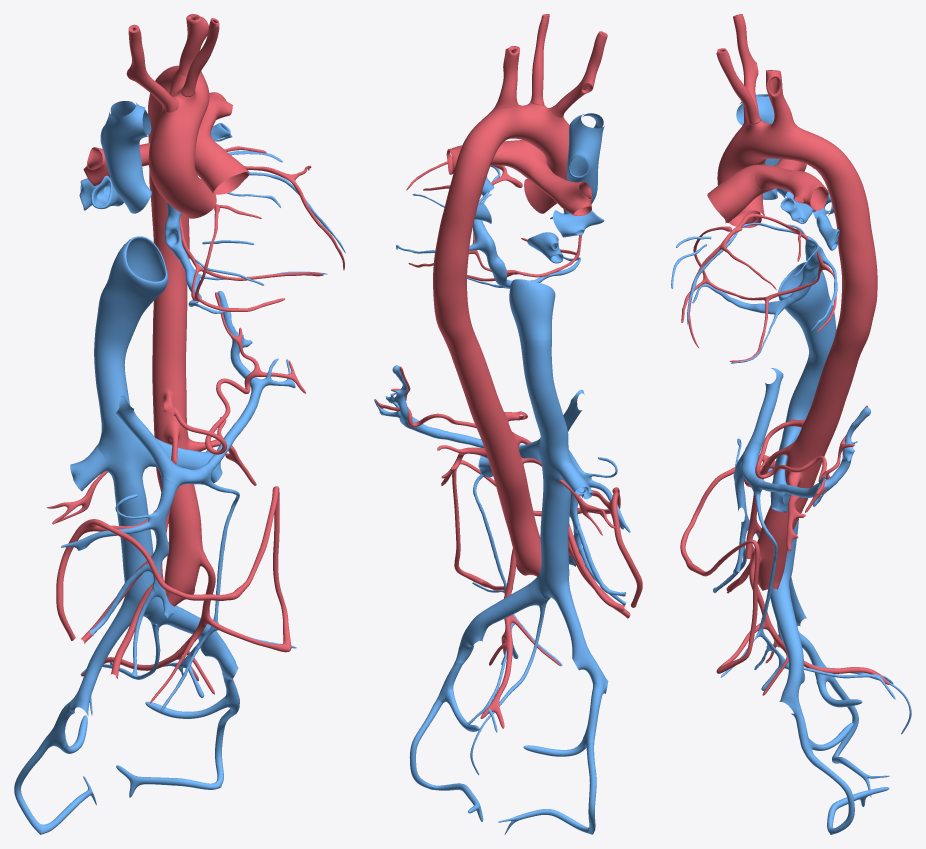
The model's file is VH_F_Vasculature.glb.
The picture shows the model from 3 angles, left to right: view 1: azimuth 30°, elevation 25°; view 2: azimuth 150°, elevation 25°; view 3: azimuth 270°, elevation 25°; orthographic projection. The views are drawn at different scales.
Visible parts, largest first — view 1: VHF_inferior_vena_cava_b, VHF_descending_aorta_b, VHF_superior_vena_cava, VHF_ascending_aorta, VHF_marginal_artery_of_Drummond, VHF_inferior_vena_cava_a, VHF_splenic_vein, VHF_aortic_arch, VHF_pulmonary_trunk, VHF_descending_aorta_a, VHF_left_common_iliac_vein, VHF_splenic_artery (+23 smaller); view 2: VHF_descending_aorta_b, VHF_inferior_vena_cava_b, VHF_descending_aorta_a, VHF_aortic_arch, VHF_inferior_vena_cava_a, VHF_superior_vena_cava, VHF_pulmonary_artery_R, VHF_left_common_iliac_vein, VHF_marginal_artery_of_Drummond, VHF_right_common_iliac_vein, VHF_splenic_vein, VHF_ascending_aorta (+20 smaller); view 3: VHF_descending_aorta_a, VHF_descending_aorta_b, VHF_aortic_arch, VHF_inferior_vena_cava_b, VHF_left_common_iliac_vein, VHF_splenic_vein, VHF_pulmonary_artery_L, VHF_inferior_vena_cava_a, VHF_marginal_artery_of_Drummond, VHF_pulmonary_trunk, VHF_splenic_artery, VHF_ascending_aorta (+22 smaller).
Part boxes in pixels (x1,y1,x2,y2): VHF_inferior_vena_cava_b: (94,295,160,617); VHF_descending_aorta_b: (152,282,203,606); VHF_superior_vena_cava: (100,101,151,213); VHF_ascending_aorta: (148,135,216,218); VHF_marginal_artery_of_Drummond: (56,486,291,651); VHF_inferior_vena_cava_a: (101,236,168,314); VHF_splenic_vein: (162,291,295,485); VHF_aortic_arch: (152,65,209,138); VHF_pulmonary_trunk: (195,129,249,194); VHF_descending_aorta_a: (148,93,189,282); VHF_left_common_iliac_vein: (146,598,238,679); VHF_splenic_artery: (174,292,305,454); VHF_descending_aorta_b: (448,337,541,576); VHF_inferior_vena_cava_b: (520,338,572,599); VHF_descending_aorta_a: (433,145,491,350); VHF_aortic_arch: (462,102,569,161); VHF_inferior_vena_cava_a: (509,279,555,340); VHF_superior_vena_cava: (563,113,604,213); VHF_pulmonary_artery_R: (523,154,592,215); VHF_left_common_iliac_vein: (455,575,545,663); VHF_marginal_artery_of_Drummond: (452,460,642,607); VHF_right_common_iliac_vein: (554,583,608,693); VHF_splenic_vein: (374,365,525,447); VHF_ascending_aorta: (524,143,568,213); VHF_descending_aorta_a: (816,153,877,359); VHF_descending_aorta_b: (755,346,859,590); VHF_aortic_arch: (730,117,843,169); VHF_inferior_vena_cava_b: (773,312,836,582); VHF_left_common_iliac_vein: (770,576,805,713); VHF_splenic_vein: (740,407,870,506); VHF_pulmonary_artery_L: (755,165,828,210); VHF_inferior_vena_cava_a: (778,262,832,329); VHF_marginal_artery_of_Drummond: (680,454,775,673); VHF_pulmonary_trunk: (707,164,774,222); VHF_splenic_artery: (755,405,867,512); VHF_ascending_aorta: (717,140,765,227).
Bounding box in the file's own units: 0.195 × 0.5831 × 0.1656.
